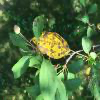Apple Scab Leaf: (32, 31, 74, 59), (39, 59, 57, 99), (7, 31, 29, 49), (32, 16, 44, 43), (65, 76, 84, 93), (67, 57, 86, 73)
